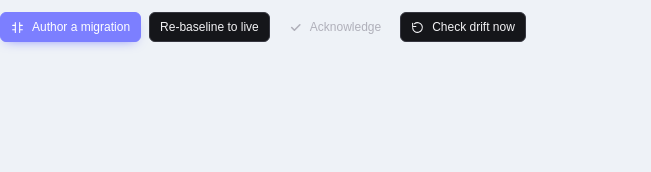
Scenario: drift resolution bar › shows the server's reason when an action is refused, and lets go of the lock
The image size is (651, 172).
Click the button "Acknowledge". click: (335, 27)
box: [278,12,392,42]
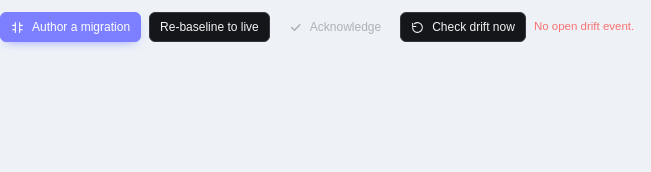
Expected: the button "Check drift now" is enabled, [400,12,526,42]
Expected: the text "No open drift event." is shown, [534,18,634,36]
